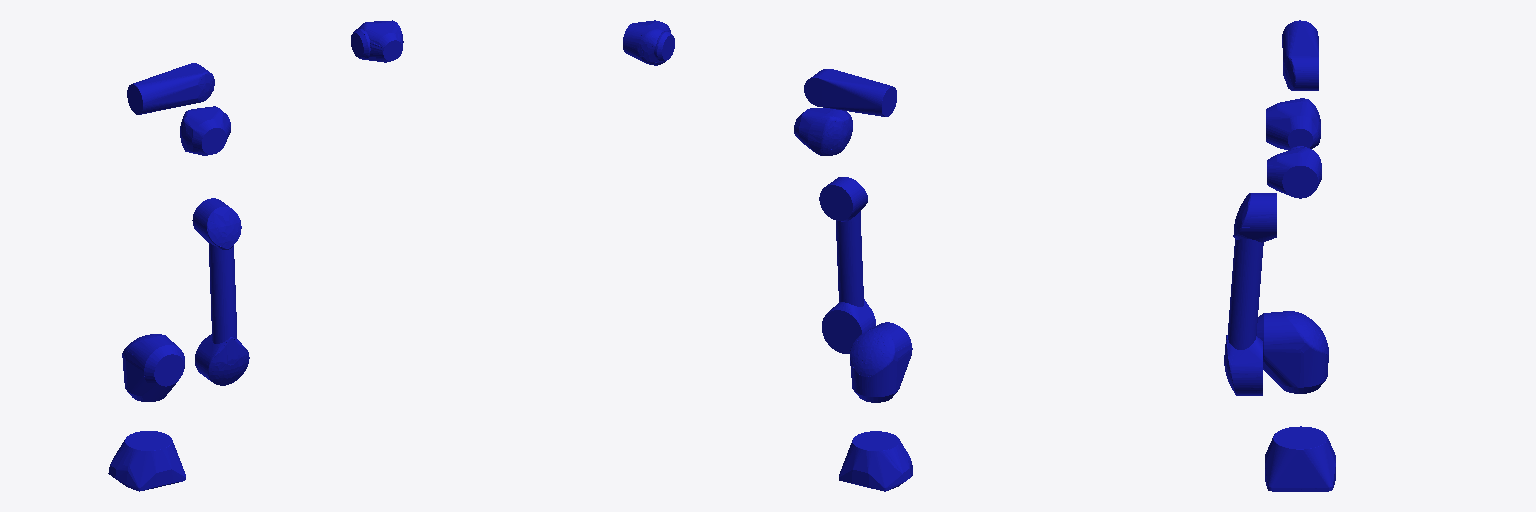
URDF robot description (motoman_gp250):
<?xml version="1.0" ?>
<!-- =================================================================================== -->
<!-- |    This document was autogenerated by xacro from src/motoman/motoman_gp250_support/urdf/gp250.xacro | -->
<!-- |    EDITING THIS FILE BY HAND IS NOT RECOMMENDED                                 | -->
<!-- =================================================================================== -->
<robot name="motoman_gp250">
  <!-- link list -->
  <link name="base_link">
    <visual>
      <geometry>
        <mesh filename="package://motoman_gp250_support/meshes/gp250/visual/base_link.stl"/>
      </geometry>
      <material name="">
        <color rgba="0.12941176470588237 0.14901960784313725 0.7490196078431373 1.0"/>
      </material>
    </visual>
    <collision>
      <geometry>
        <mesh filename="package://motoman_gp250_support/meshes/gp250/collision/base_link.stl"/>
      </geometry>
    </collision>
  </link>
  <link name="link_1_s">
    <visual>
      <geometry>
        <mesh filename="package://motoman_gp250_support/meshes/gp250/visual/link_1_s.stl"/>
      </geometry>
      <material name="">
        <color rgba="0.12941176470588237 0.14901960784313725 0.7490196078431373 1.0"/>
      </material>
    </visual>
    <collision>
      <geometry>
        <mesh filename="package://motoman_gp250_support/meshes/gp250/collision/link_1_s.stl"/>
      </geometry>
    </collision>
  </link>
  <link name="link_2_l">
    <visual>
      <geometry>
        <mesh filename="package://motoman_gp250_support/meshes/gp250/visual/link_2_l.stl"/>
      </geometry>
      <material name="">
        <color rgba="0.12941176470588237 0.14901960784313725 0.7490196078431373 1.0"/>
      </material>
    </visual>
    <collision>
      <geometry>
        <mesh filename="package://motoman_gp250_support/meshes/gp250/collision/link_2_l.stl"/>
      </geometry>
    </collision>
  </link>
  <link name="link_3_u">
    <visual>
      <geometry>
        <mesh filename="package://motoman_gp250_support/meshes/gp250/visual/link_3_u.stl"/>
      </geometry>
      <material name="">
        <color rgba="0.12941176470588237 0.14901960784313725 0.7490196078431373 1.0"/>
      </material>
    </visual>
    <collision>
      <geometry>
        <mesh filename="package://motoman_gp250_support/meshes/gp250/collision/link_3_u.stl"/>
      </geometry>
    </collision>
  </link>
  <link name="link_4_r">
    <visual>
      <geometry>
        <mesh filename="package://motoman_gp250_support/meshes/gp250/visual/link_4_r.stl"/>
      </geometry>
      <material name="">
        <color rgba="0.12941176470588237 0.14901960784313725 0.7490196078431373 1.0"/>
      </material>
    </visual>
    <collision>
      <geometry>
        <mesh filename="package://motoman_gp250_support/meshes/gp250/collision/link_4_r.stl"/>
      </geometry>
    </collision>
  </link>
  <link name="link_5_b">
    <visual>
      <geometry>
        <mesh filename="package://motoman_gp250_support/meshes/gp250/visual/link_5_b.stl"/>
      </geometry>
      <material name="">
        <color rgba="0.12941176470588237 0.14901960784313725 0.7490196078431373 1.0"/>
      </material>
    </visual>
    <collision>
      <geometry>
        <mesh filename="package://motoman_gp250_support/meshes/gp250/collision/link_5_b.stl"/>
      </geometry>
    </collision>
  </link>
  <link name="link_6_t">
    <visual>
      <geometry>
        <mesh filename="package://motoman_gp250_support/meshes/gp250/visual/link_6_t.stl"/>
      </geometry>
      <material name="">
        <color rgba="0.12941176470588237 0.14901960784313725 0.7490196078431373 1.0"/>
      </material>
    </visual>
    <collision>
      <geometry>
        <mesh filename="package://motoman_gp250_support/meshes/gp250/collision/link_6_t.stl"/>
      </geometry>
    </collision>
  </link>
  <link name="tool0"/>
  <!-- end of link list -->
  <!-- joint list -->
  <joint name="joint_1_s" type="revolute">
    <parent link="base_link"/>
    <child link="link_1_s"/>
    <origin rpy="0 0 0" xyz="0 0 0.650"/>
    <axis xyz="0 0 1"/>
    <limit effort="5516" lower="-3.141592653589793" upper="3.141592653589793" velocity="3.141592653589793"/>
  </joint>
  <joint name="joint_2_l" type="revolute">
    <parent link="link_1_s"/>
    <child link="link_2_l"/>
    <origin rpy="0 0 0" xyz="0.285 0 0"/>
    <axis xyz="0 1 0"/>
    <limit effort="7060" lower="-1.5707963267948966" upper="2.356194490192345" velocity="3.1066860685499065"/>
  </joint>
  <joint name="joint_3_u" type="revolute">
    <parent link="link_2_l"/>
    <child link="link_3_u"/>
    <origin rpy="0 0 0" xyz="0 0 1.150"/>
    <axis xyz="0 -1 0"/>
    <limit effort="3089" lower="-1.3962634015954636" upper="3.595378259108319" velocity="3.1066860685499065"/>
  </joint>
  <joint name="joint_4_r" type="revolute">
    <parent link="link_3_u"/>
    <child link="link_4_r"/>
    <origin rpy="0 0 0" xyz="0 0 0.250"/>
    <axis xyz="-1 0 0"/>
    <limit effort="926" lower="-6.283185307179586" upper="6.283185307179586" velocity="4.363323129985824"/>
  </joint>
  <joint name="joint_5_b" type="revolute">
    <parent link="link_4_r"/>
    <child link="link_5_b"/>
    <origin rpy="0 0 0" xyz="1.015 0 0"/>
    <axis xyz="0 -1 0"/>
    <limit effort="794" lower="-2.181661564992912" upper="2.181661564992912" velocity="4.363323129985824"/>
  </joint>
  <joint name="joint_6_t" type="revolute">
    <parent link="link_5_b"/>
    <child link="link_6_t"/>
    <origin rpy="0 0 0" xyz="0 0 0"/>
    <axis xyz="-1 0 0"/>
    <limit effort="375" lower="-6.283185307179586" upper="6.283185307179586" velocity="6.283185307179586"/>
  </joint>
  <joint name="joint_6_t-tool0" type="fixed">
    <origin rpy="3.1415926 -1.570796 0" xyz="0.250 0 0"/>
    <parent link="link_6_t"/>
    <child link="tool0"/>
  </joint>
  <!-- end of joint list -->
  <!-- ROS base_link to Robot Manufacturer World Coordinates transform -->
  <link name="base"/>
  <joint name="base_link-base" type="fixed">
    <origin rpy="0 0 0" xyz="0 0 0.650"/>
    <parent link="base_link"/>
    <child link="base"/>
  </joint>
</robot>

--- Facts derived from the render (not from the file) ---
Views: 3 orthographic renders of the robot side by side, from view 1: azimuth 30°, elevation 25°; view 2: azimuth 150°, elevation 25°; view 3: azimuth 270°, elevation 25°.
Robot: motoman_gp250 — 9 links, 8 joints (6 revolute, 2 fixed); root link base_link; default pose: all joints at 0.
Visible links, largest first — view 1: link_2_l, base_link, link_1_s, link_4_r, link_3_u, link_5_b; view 2: link_2_l, link_1_s, base_link, link_4_r, link_3_u, link_5_b; view 3: link_2_l, link_1_s, base_link, link_3_u, link_4_r, link_5_b.
Boxes of the visible links, x1,y1,x2,y2 form: link_2_l: [192, 198, 249, 385]; base_link: [108, 431, 185, 491]; link_1_s: [122, 334, 184, 401]; link_4_r: [127, 63, 214, 114]; link_3_u: [180, 106, 230, 155]; link_5_b: [358, 20, 403, 62]; link_2_l: [819, 177, 875, 353]; link_1_s: [850, 322, 912, 402]; base_link: [839, 431, 912, 491]; link_4_r: [804, 69, 896, 116]; link_3_u: [794, 108, 852, 155]; link_5_b: [623, 20, 670, 65]; link_2_l: [1224, 193, 1276, 395]; link_1_s: [1257, 311, 1328, 393]; base_link: [1265, 426, 1335, 491]; link_3_u: [1266, 98, 1320, 149]; link_4_r: [1282, 20, 1318, 90]; link_5_b: [1267, 147, 1321, 198].
Size in the robot's own frame: 1.59 by 0.4788 by 2.14 metres.
Meshes: 7 distinct files referenced, 7 mesh visuals loaded (7 binary STL).